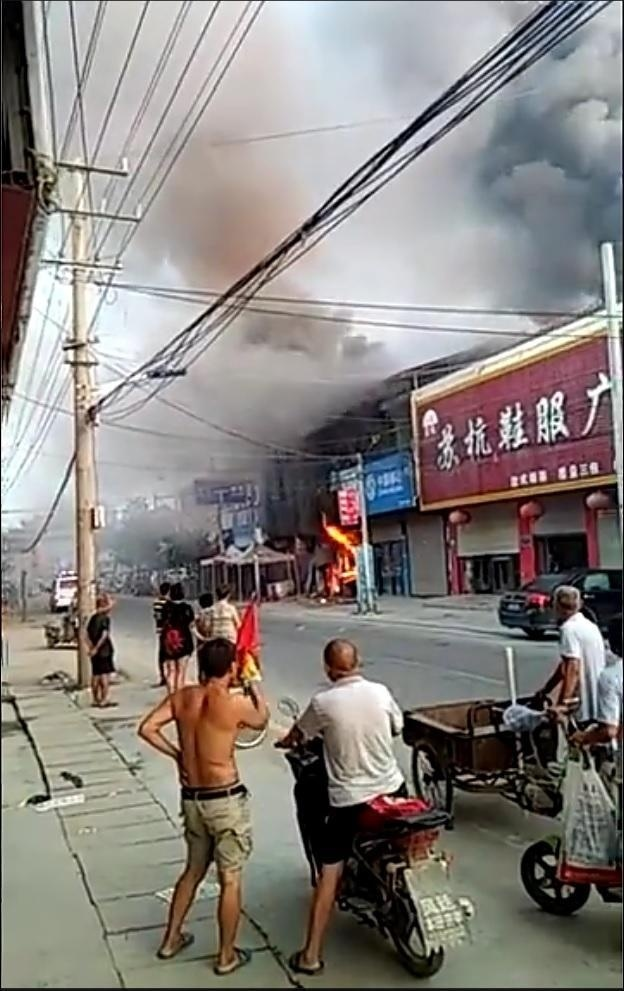fire: (319, 511, 361, 589)
